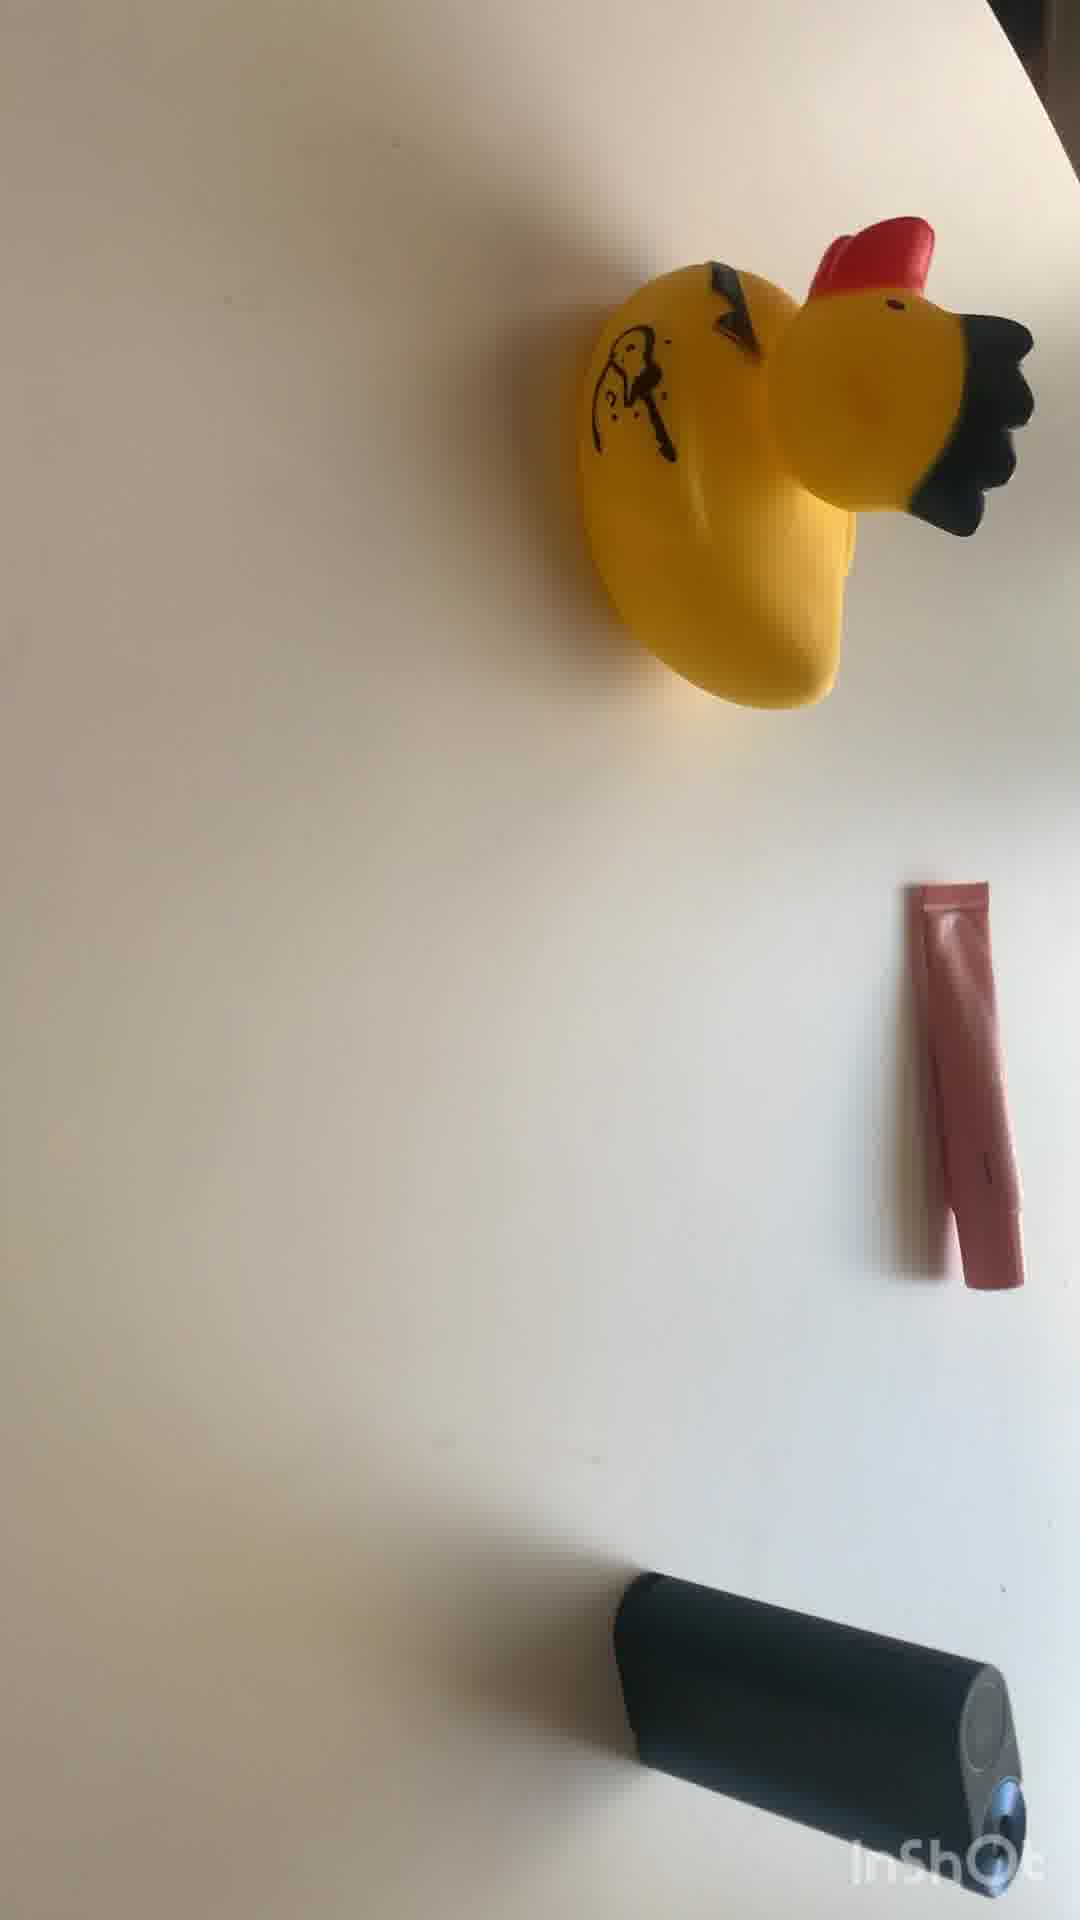duck: (568, 218, 1040, 716)
glo: (605, 1564, 1033, 1880)
lip balm: (909, 864, 1029, 1300)
